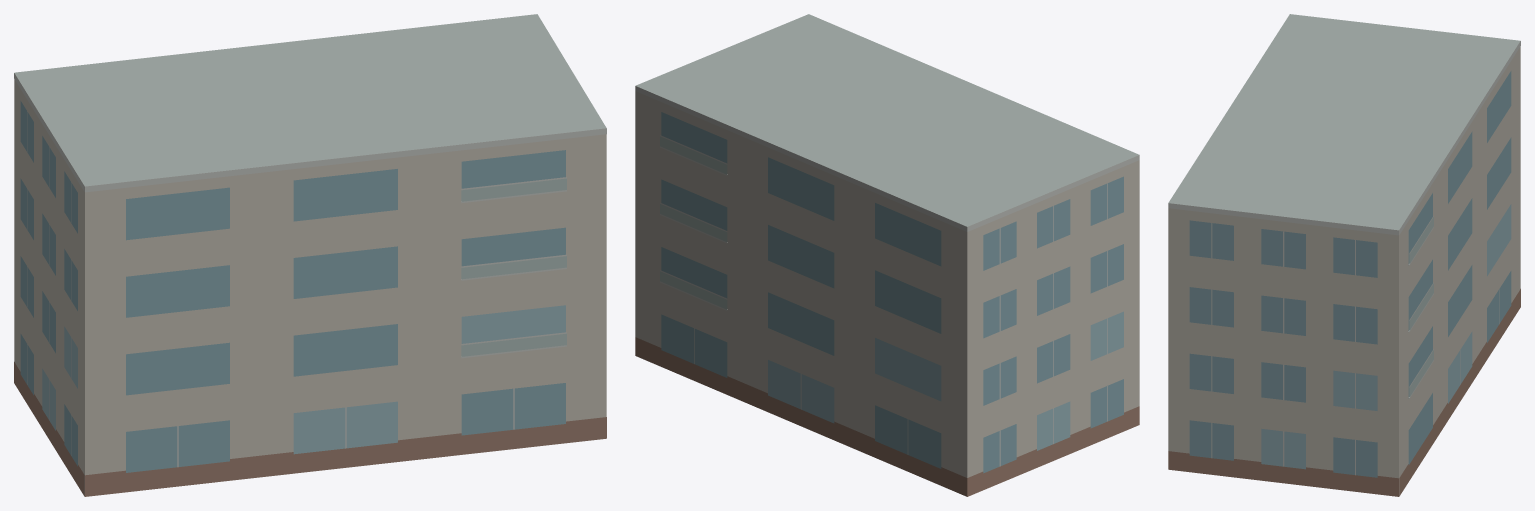
File: survey-upis-32991552.glb
3 renders of one model, left to right at view 1: azimuth 30°, elevation 25°; view 2: azimuth 150°, elevation 25°; view 3: azimuth 270°, elevation 25°, orthographic. The views are drawn at different scales.
Visible parts, largest first — view 1: survey-upis-32991552.tmp; view 2: survey-upis-32991552.tmp; view 3: survey-upis-32991552.tmp.
Boxes of the visible parts, x1,y1,x2,y2 form: survey-upis-32991552.tmp: [14, 14, 606, 496]; survey-upis-32991552.tmp: [635, 14, 1139, 496]; survey-upis-32991552.tmp: [1168, 14, 1520, 496].
Size of the model in its own units: 22.3 by 12.8 by 15.35.
